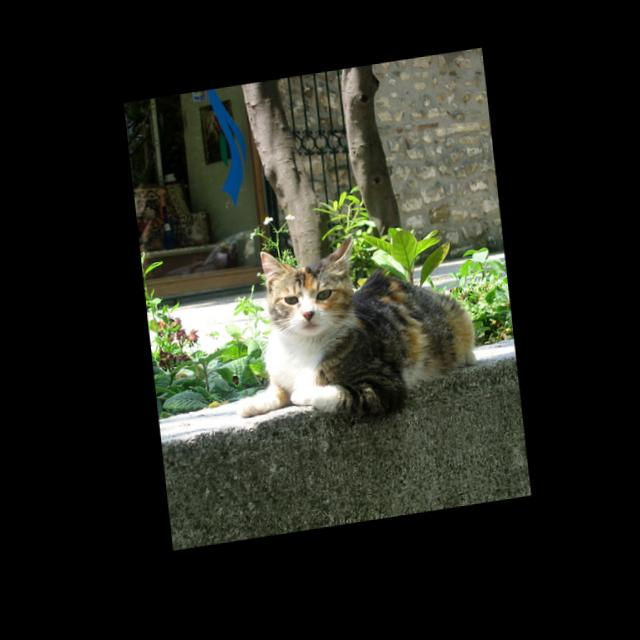animals: (259, 238, 359, 329)
